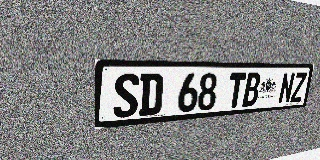6: (177, 73, 200, 112)
8: (197, 73, 219, 111)
B: (242, 73, 262, 107)
D: (138, 73, 163, 116)
N: (278, 72, 296, 103)
S: (113, 73, 139, 118)
T: (226, 73, 247, 108)
Z: (290, 72, 307, 102)
